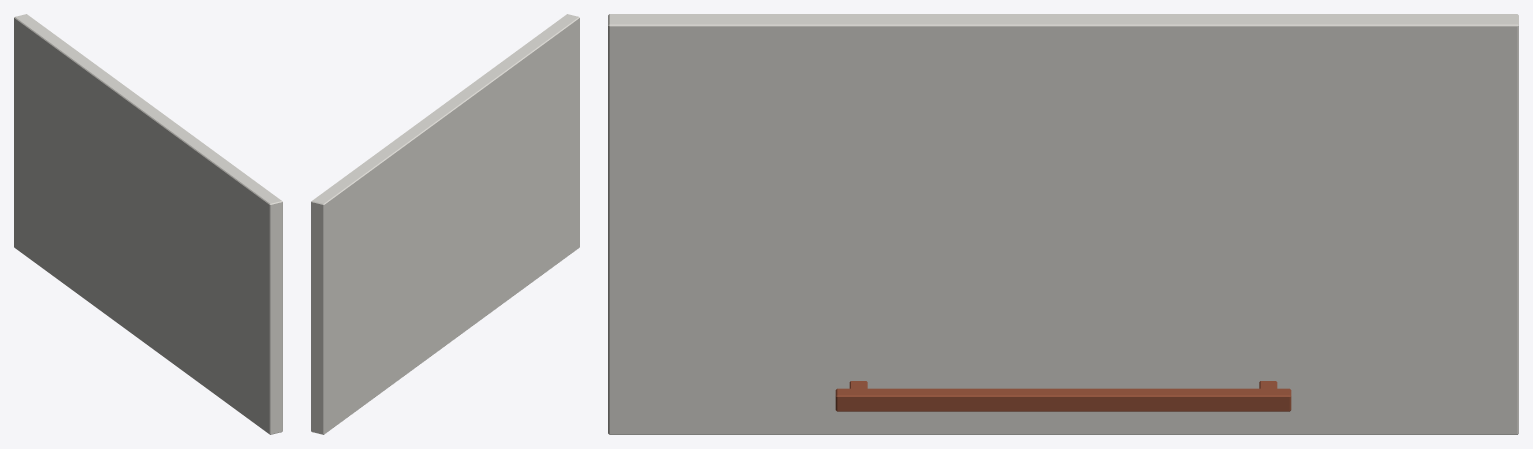
Rendered from l_kitchen_cabinets_rw1_flap.glb.
3 views of the same model, side by side, from view 1: azimuth 30°, elevation 25°; view 2: azimuth 150°, elevation 25°; view 3: azimuth 270°, elevation 25° (orthographic). The views are drawn at different scales.
Parts seen in each view (by area): view 1: l_kitchen_cabinets_rw1_flap; view 2: l_kitchen_cabinets_rw1_flap; view 3: l_kitchen_cabinets_rw1_flap.
Part boxes in pixels (<box>): l_kitchen_cabinets_rw1_flap: <box>14,14,282,434</box>; l_kitchen_cabinets_rw1_flap: <box>311,14,579,434</box>; l_kitchen_cabinets_rw1_flap: <box>608,14,1518,434</box>.
Size of the model in its own units: 0.044 by 0.297 by 0.597.
